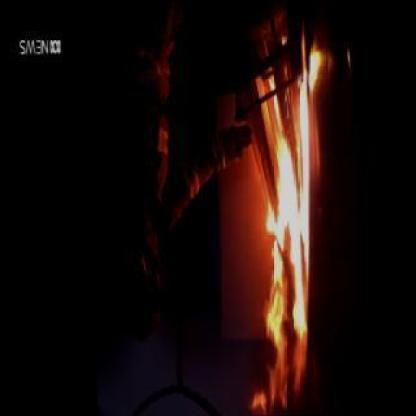Fire: (262, 53, 314, 394)
